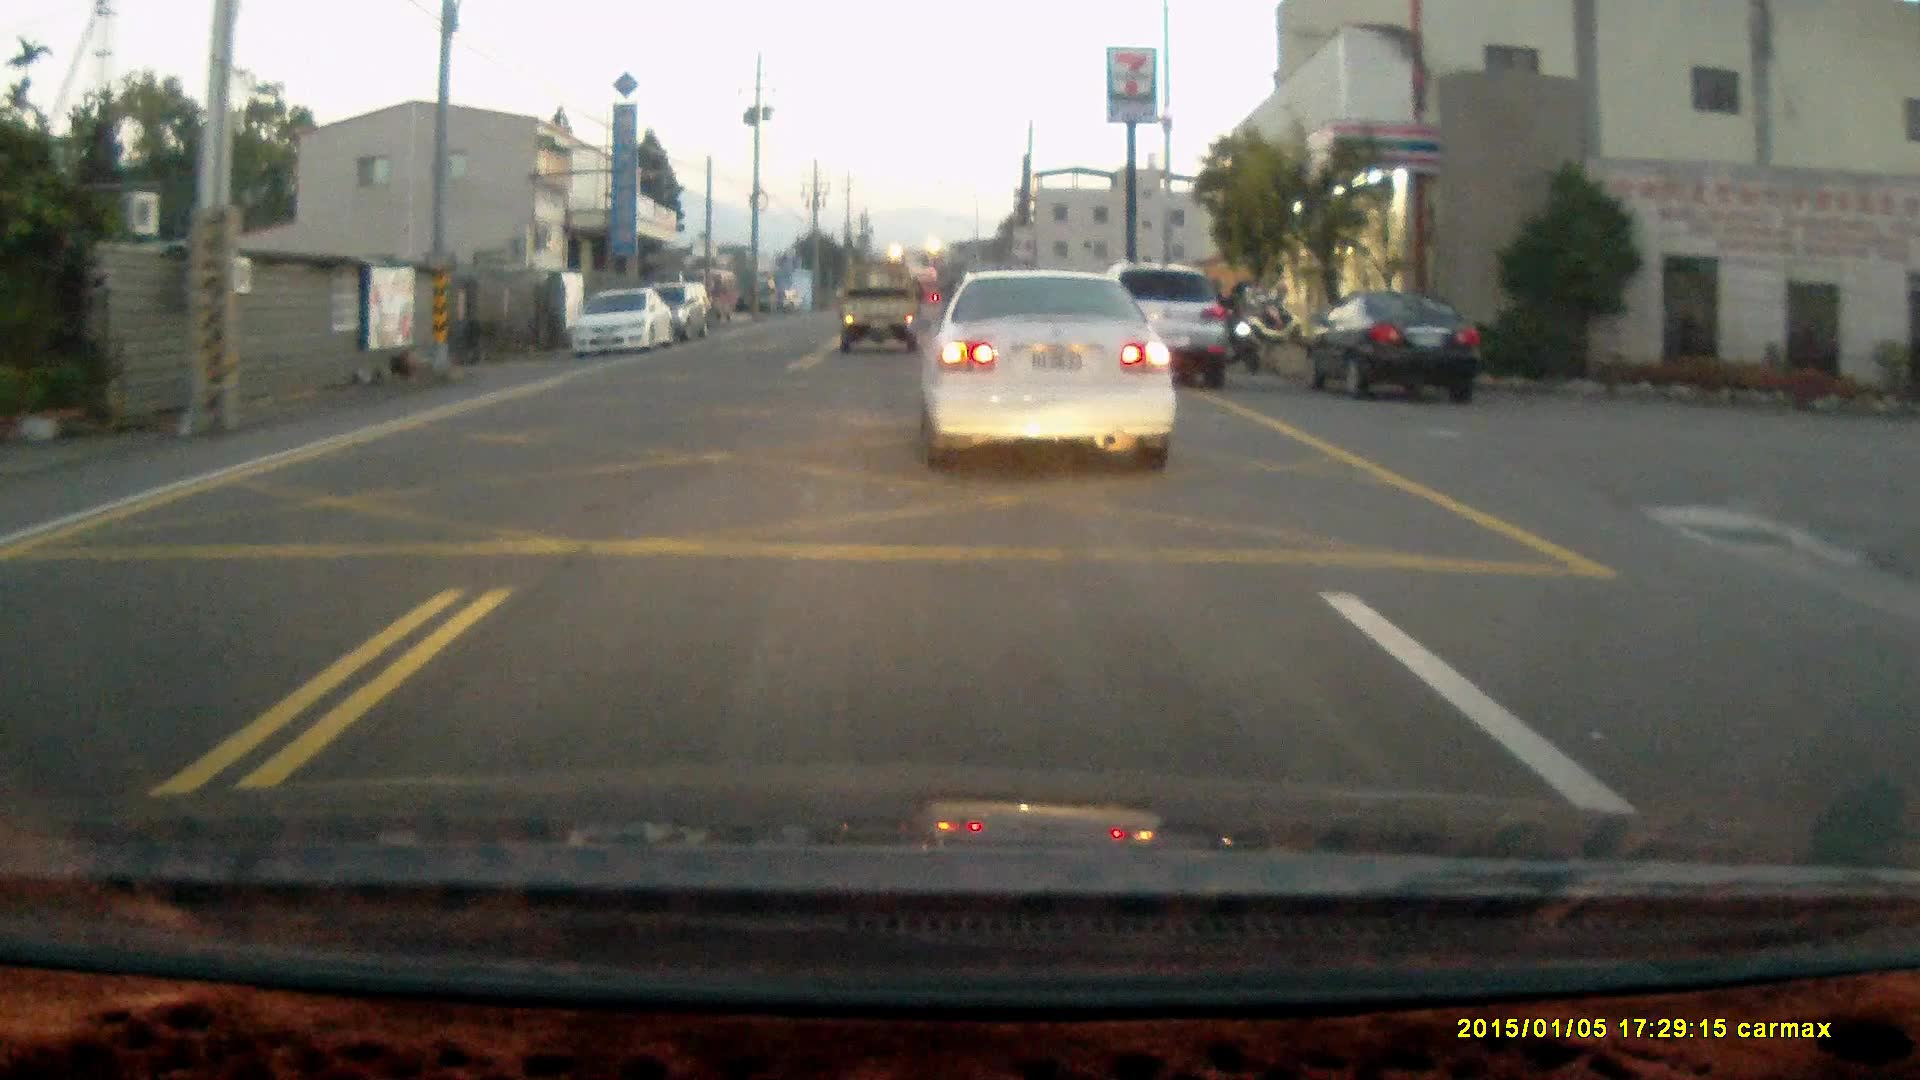rider: (1196, 274, 1262, 372)
vehicle: (924, 265, 1180, 481), (1297, 286, 1487, 407), (1096, 261, 1226, 386), (563, 281, 673, 361), (841, 264, 929, 356), (643, 279, 712, 346)
